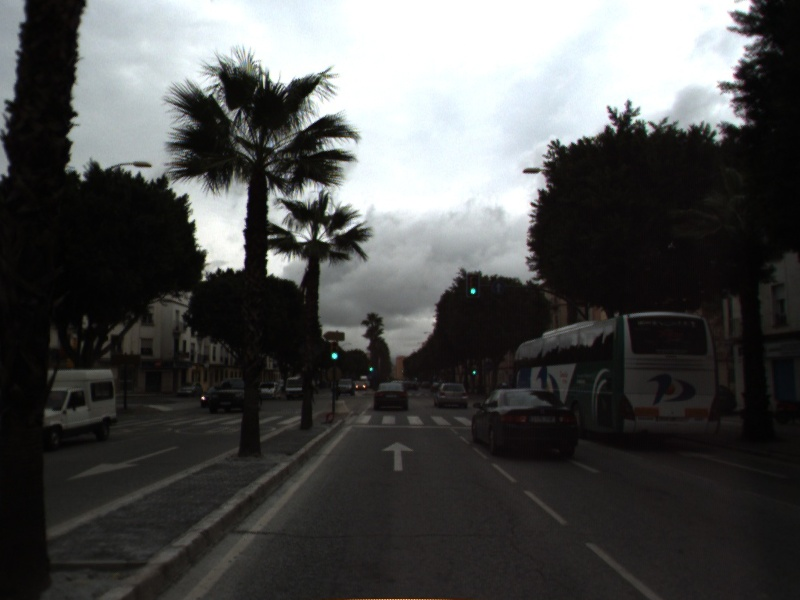STRAIGHT: (674, 447, 791, 480), (379, 439, 417, 473)
